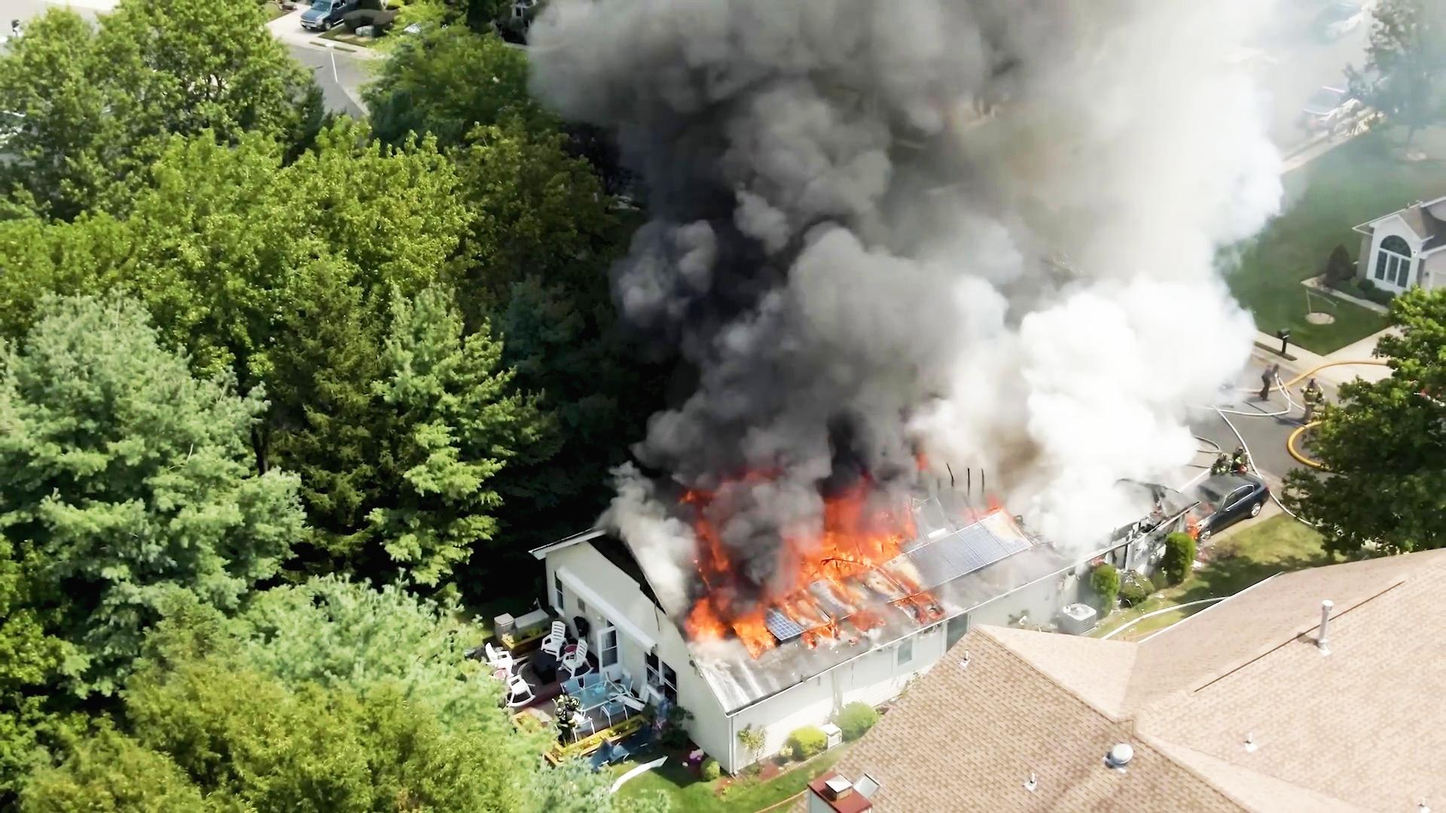fire: (807, 495, 930, 572)
smoke: (611, 0, 961, 467), (954, 0, 1179, 484)
